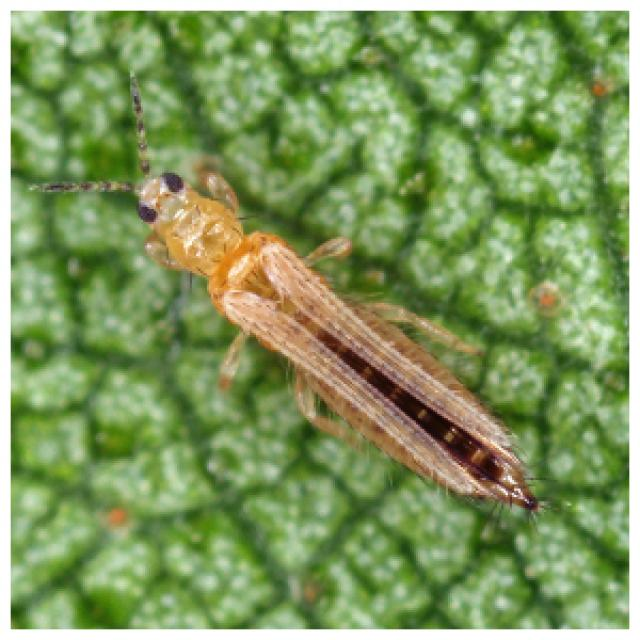Thrip-Adult-: (39, 66, 565, 536)
